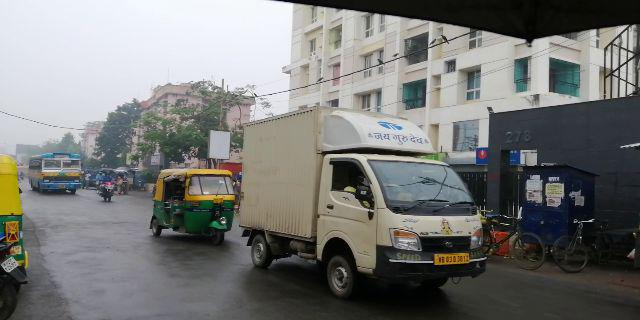Autorickshaw: (155, 164, 236, 246)
Bus: (27, 153, 85, 194)
Minitruck: (238, 104, 486, 297)
